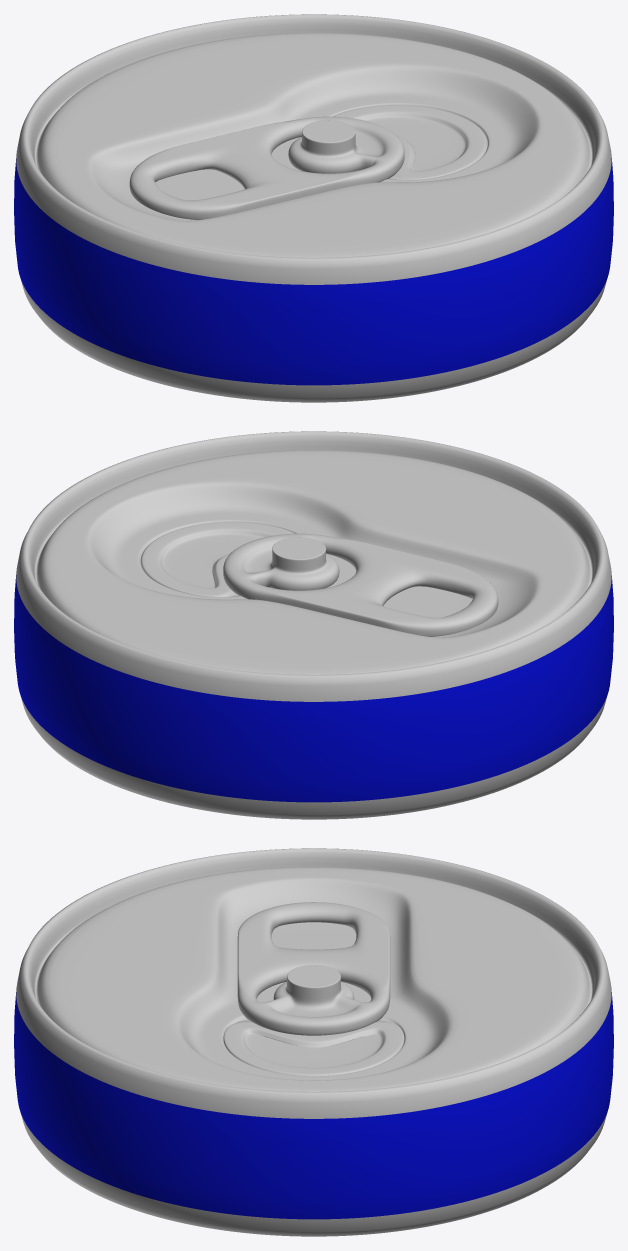
The model's file is can_blue.fbx.
3 views of the same model, one above another, from view 1: azimuth 30°, elevation 25°; view 2: azimuth 150°, elevation 25°; view 3: azimuth 270°, elevation 25° (orthographic).
Visible parts, largest first — view 1: 원형.001; view 2: 원형.001; view 3: 원형.001.
Boxes of the visible parts, box(x1,y1,x2,y2) form: 원형.001: box(14, 14, 613, 402); 원형.001: box(14, 431, 613, 819); 원형.001: box(14, 848, 613, 1236).
Bounding box in the file's own units: 179 × 48.78 × 179.
